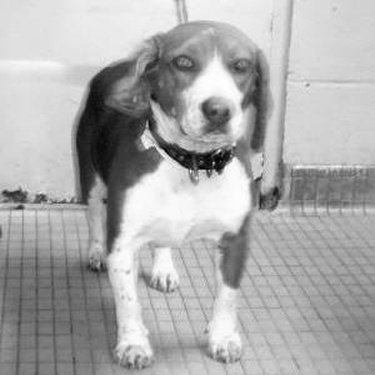dog: (52, 13, 278, 367)
